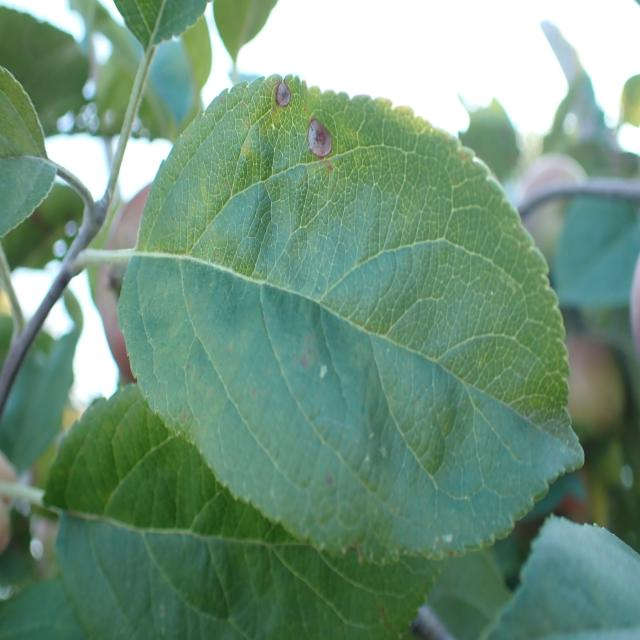Black Rot: (303, 106, 340, 194), (262, 72, 302, 120)
